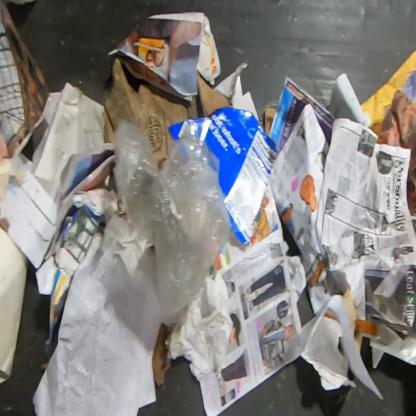cardboard: (102, 56, 233, 167), (18, 80, 106, 196), (0, 0, 49, 165), (0, 173, 59, 270), (146, 12, 222, 86), (213, 61, 259, 120), (151, 322, 173, 387), (286, 254, 308, 304), (264, 106, 278, 135)
soft_plastic: (111, 117, 240, 334), (168, 106, 280, 246), (10, 149, 35, 179)
